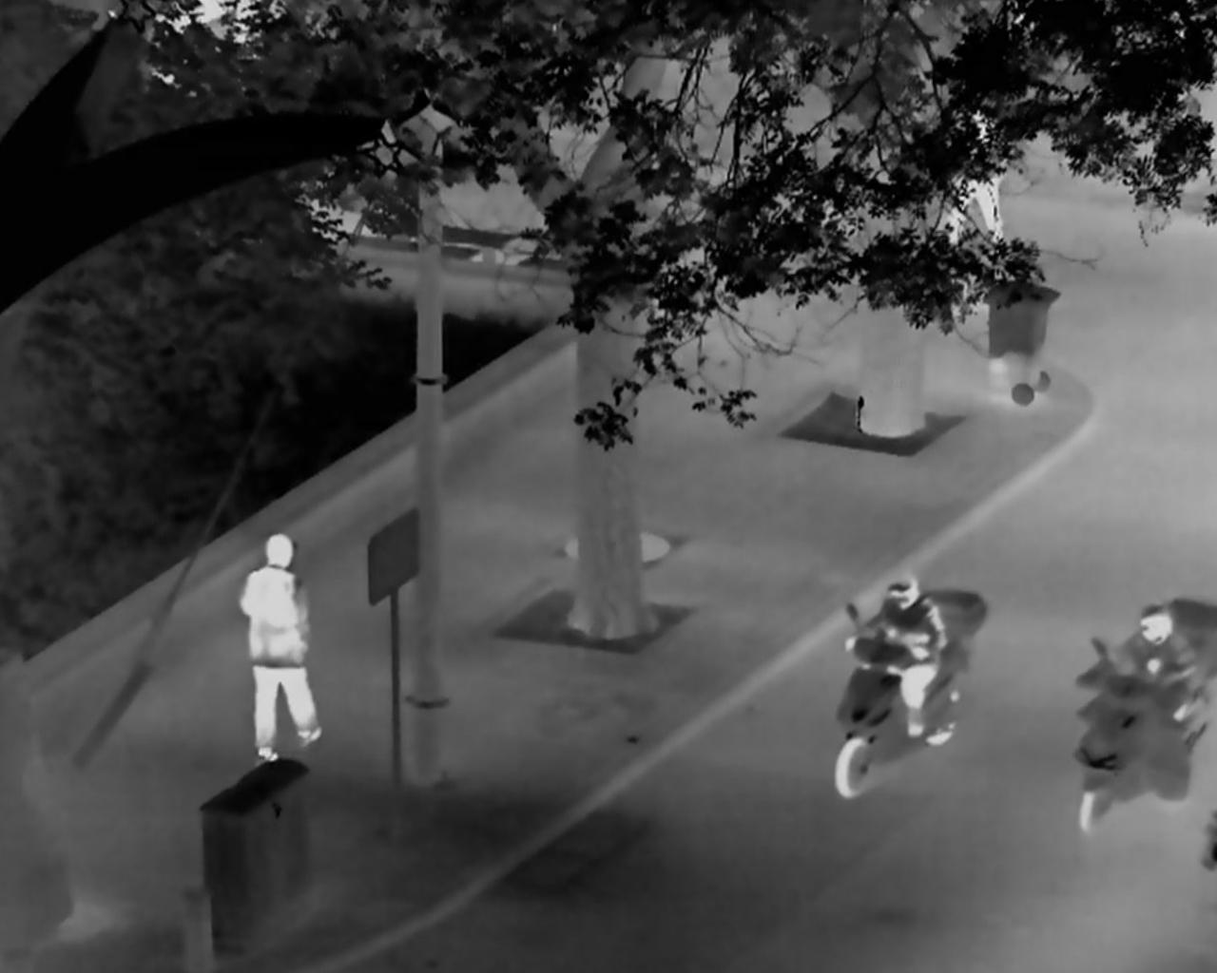person: (237, 532, 323, 765), (844, 575, 946, 738), (1079, 601, 1192, 723), (947, 97, 1005, 253)
